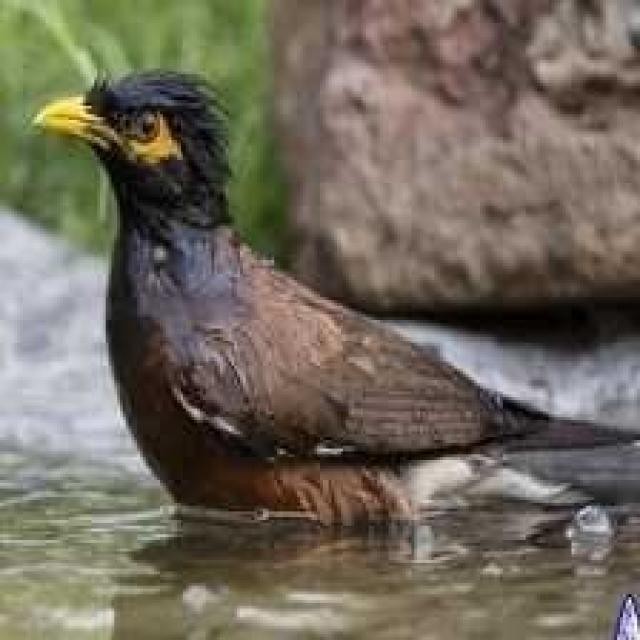bird: (22, 58, 640, 545)
